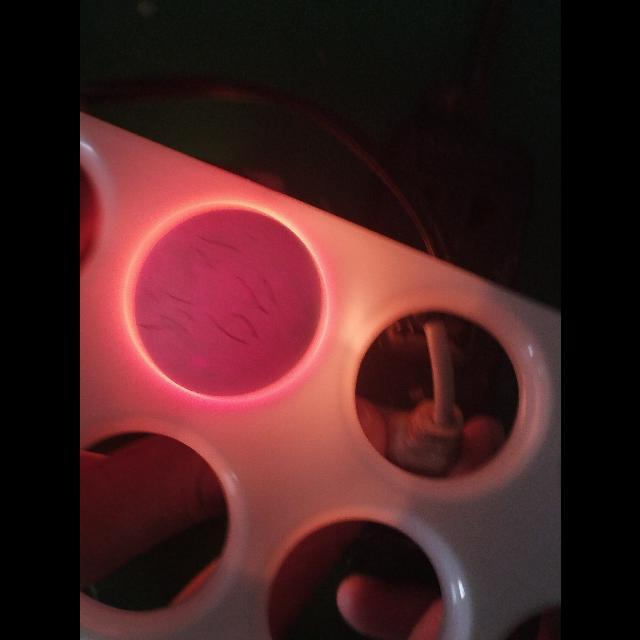Infertile: (127, 203, 325, 399)
